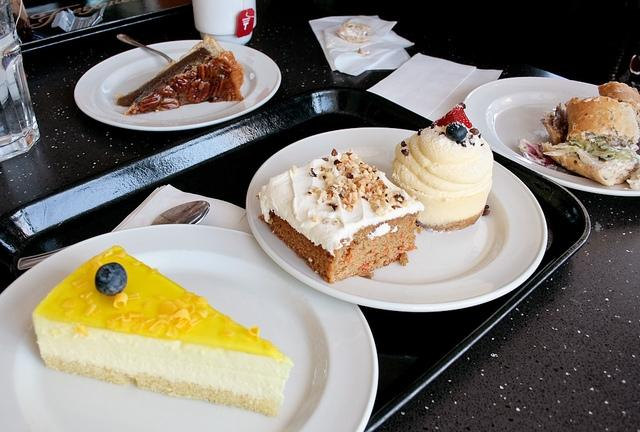raspberry: (434, 103, 472, 128), (446, 121, 466, 141)
